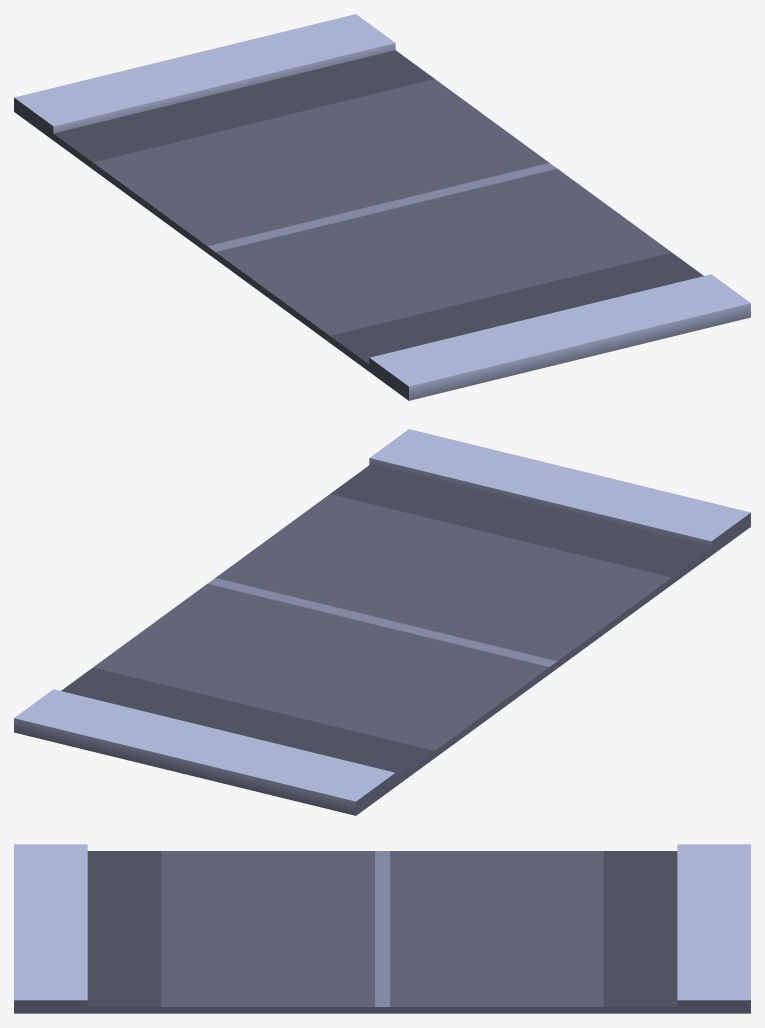
The model's file is road-straight-half.fbx.
The picture shows the model from 3 angles, top to bottom: view 1: azimuth 30°, elevation 25°; view 2: azimuth 150°, elevation 25°; view 3: azimuth 270°, elevation 25°; orthographic projection. The views are drawn at different scales.
Parts seen in each view (by area): view 1: road-straight-half; view 2: road-straight-half; view 3: road-straight-half.
Part boxes in pixels (x1=…): road-straight-half: x1=14, y1=14, x2=750, y2=400; road-straight-half: x1=14, y1=429, x2=750, y2=815; road-straight-half: x1=14, y1=844, x2=750, y2=1013.
Size of the model in its own units: 50 by 2 by 100.
